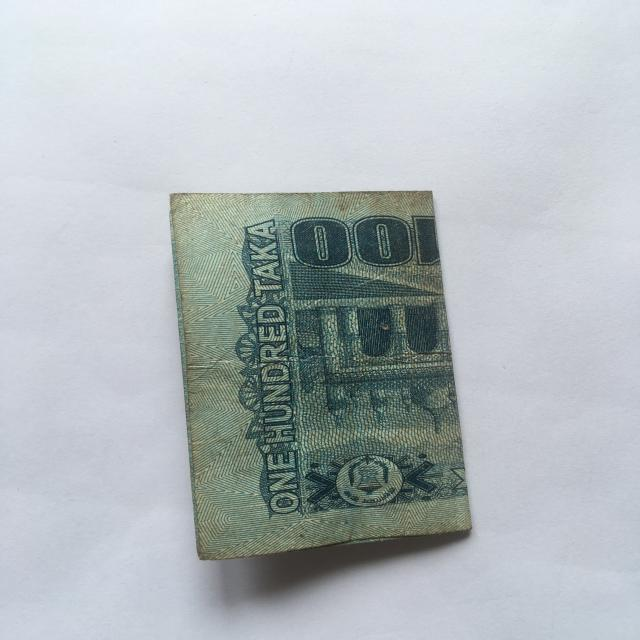Taka: (161, 174, 460, 548)
